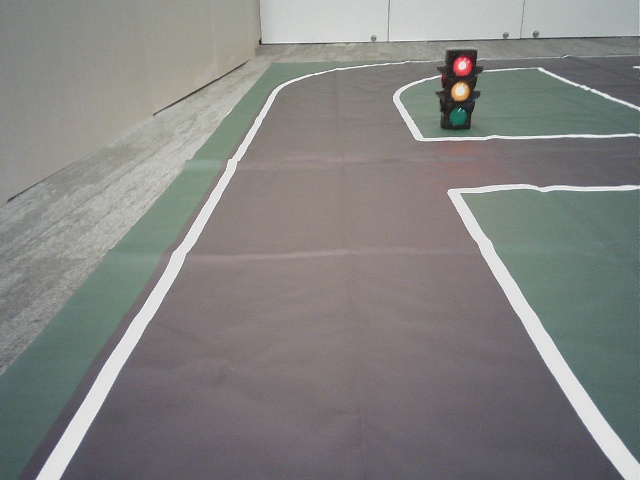red: (446, 53, 471, 128)
